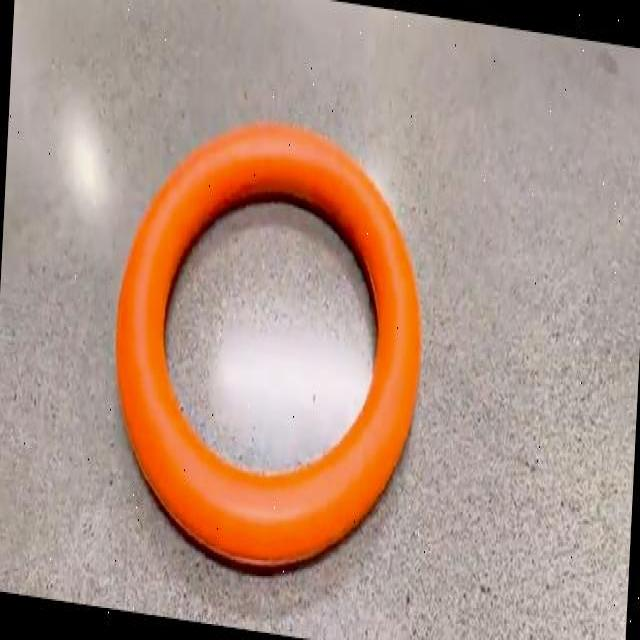note: (116, 122, 422, 566)
